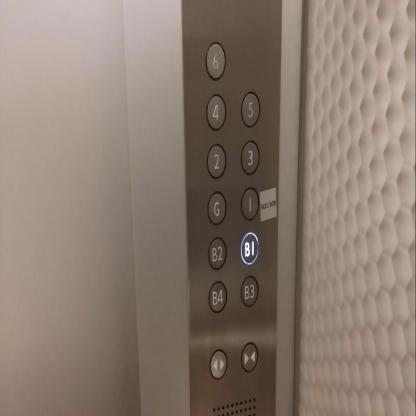1: (240, 185, 259, 221)
2: (206, 142, 226, 180)
3: (240, 139, 260, 175)
4: (205, 93, 226, 131)
5: (240, 91, 260, 128)
6: (205, 41, 226, 81)
B1: (240, 232, 258, 266)
B2: (207, 235, 227, 270)
B3: (240, 274, 259, 308)
B4: (207, 280, 227, 313)
G: (207, 190, 226, 226)
close: (240, 341, 258, 373)
open: (209, 348, 227, 379)
